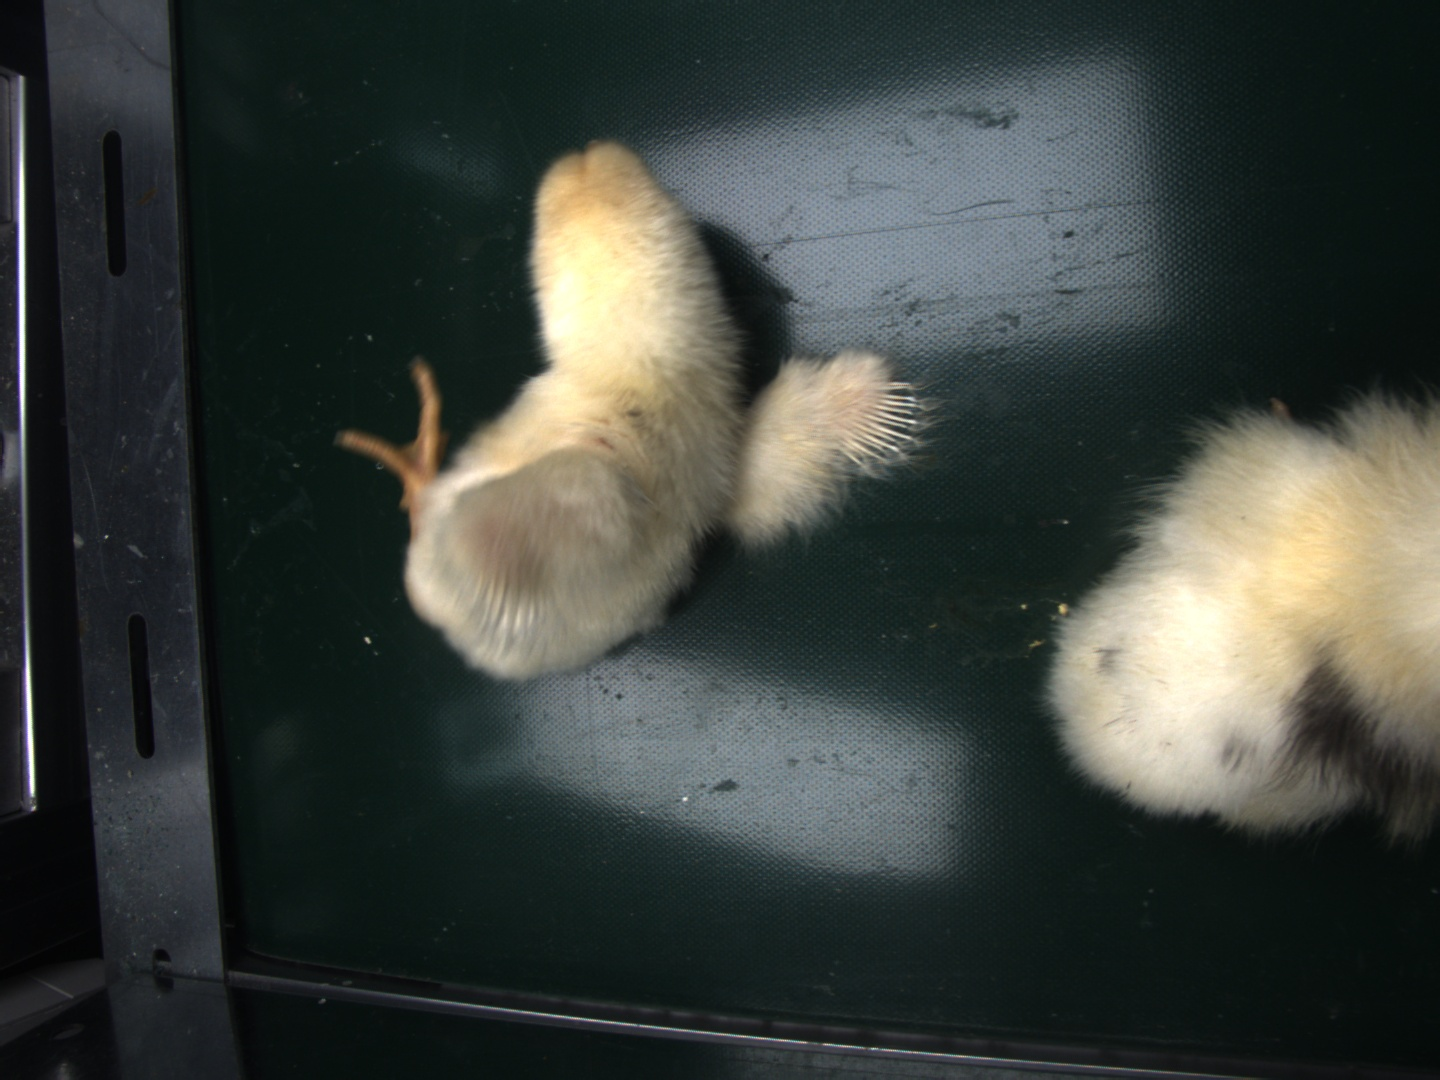male: (849, 383, 916, 462)
